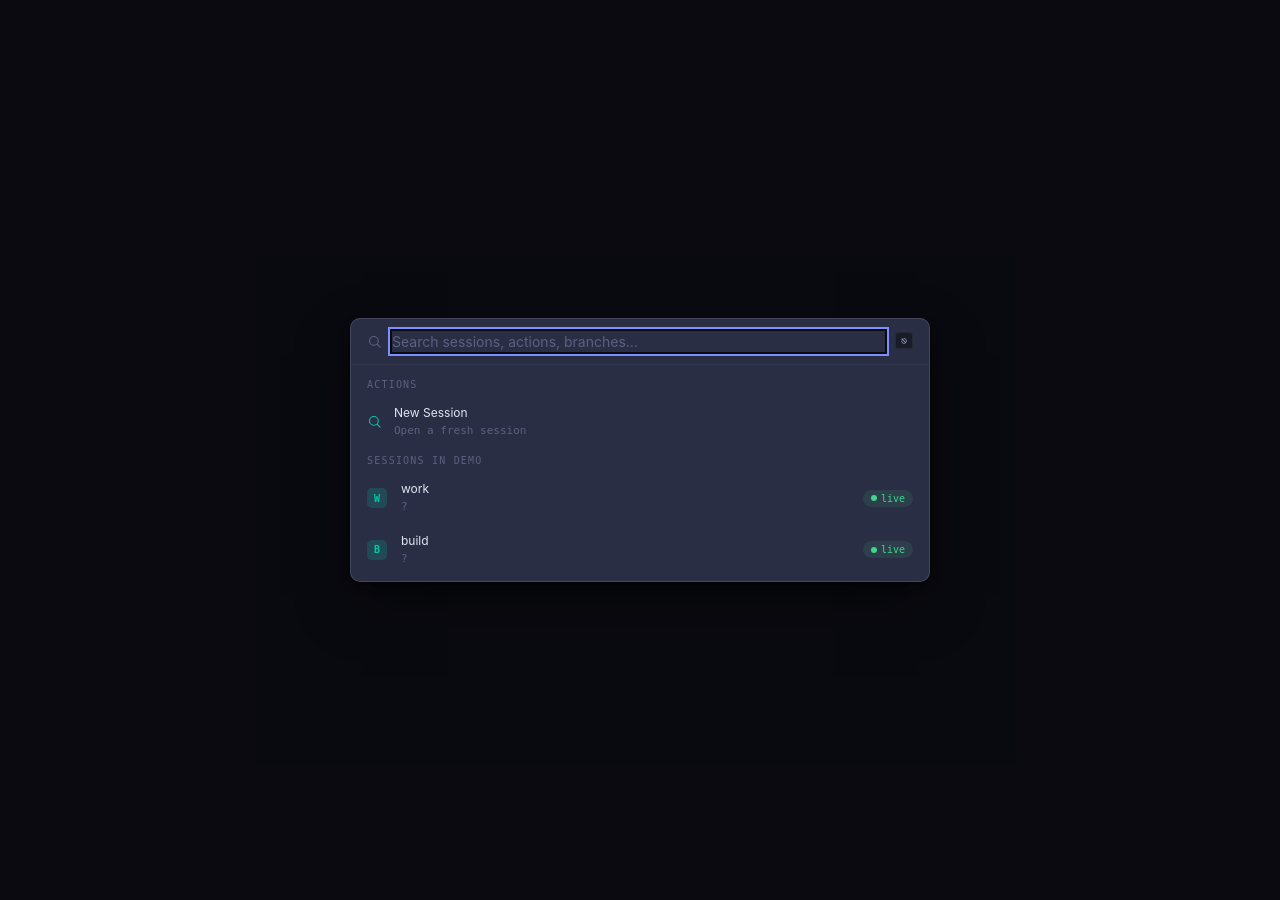
Test: Palette › shows a "No matches" message when a query matches no actions and no sessions (#142)
Type "zzzznomatch" into the field with placeholder "Search sessions, actions, branches…" at (638, 341), box [392,331,885,352]
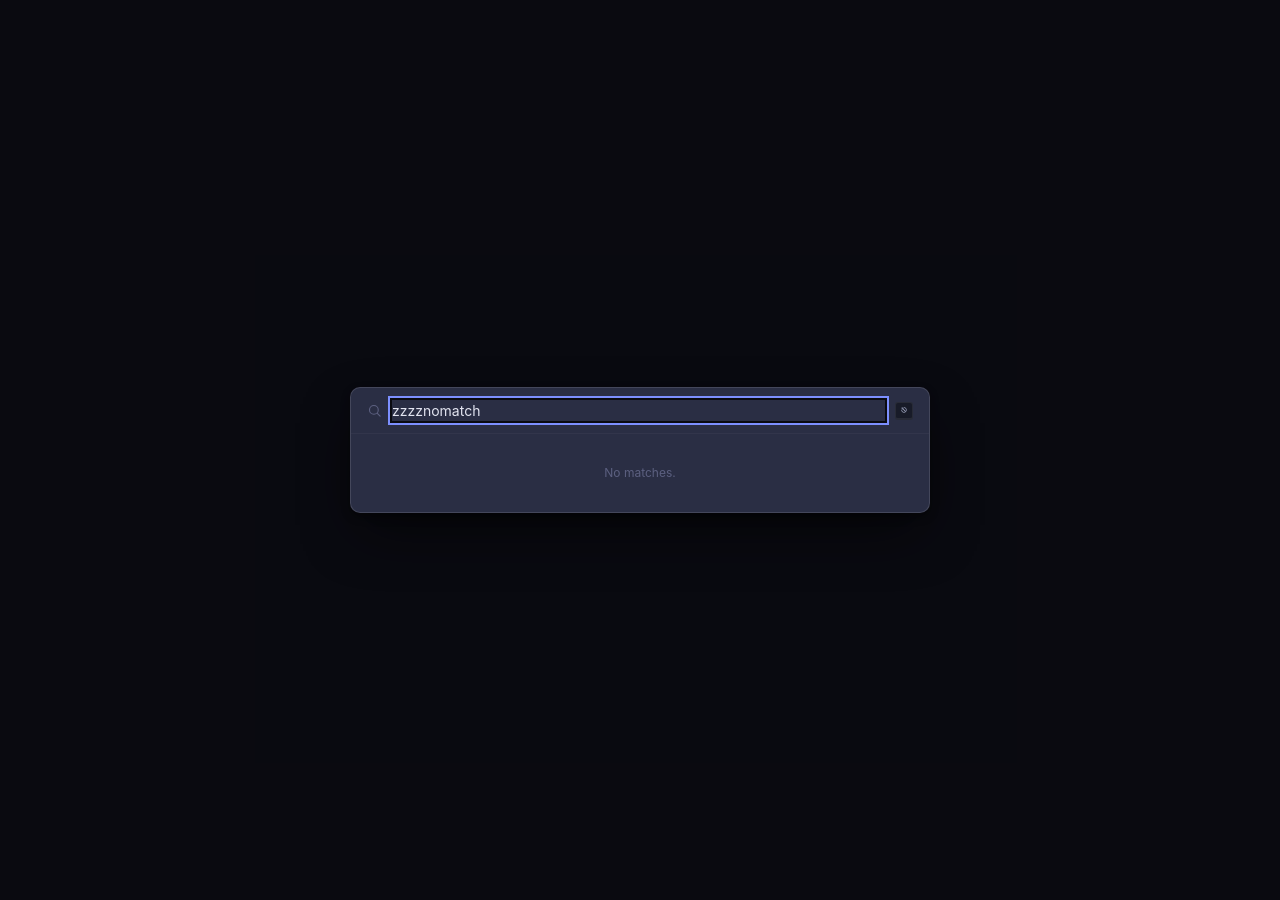
Expected: the text "No matches." is shown, [604,465,676,480]
